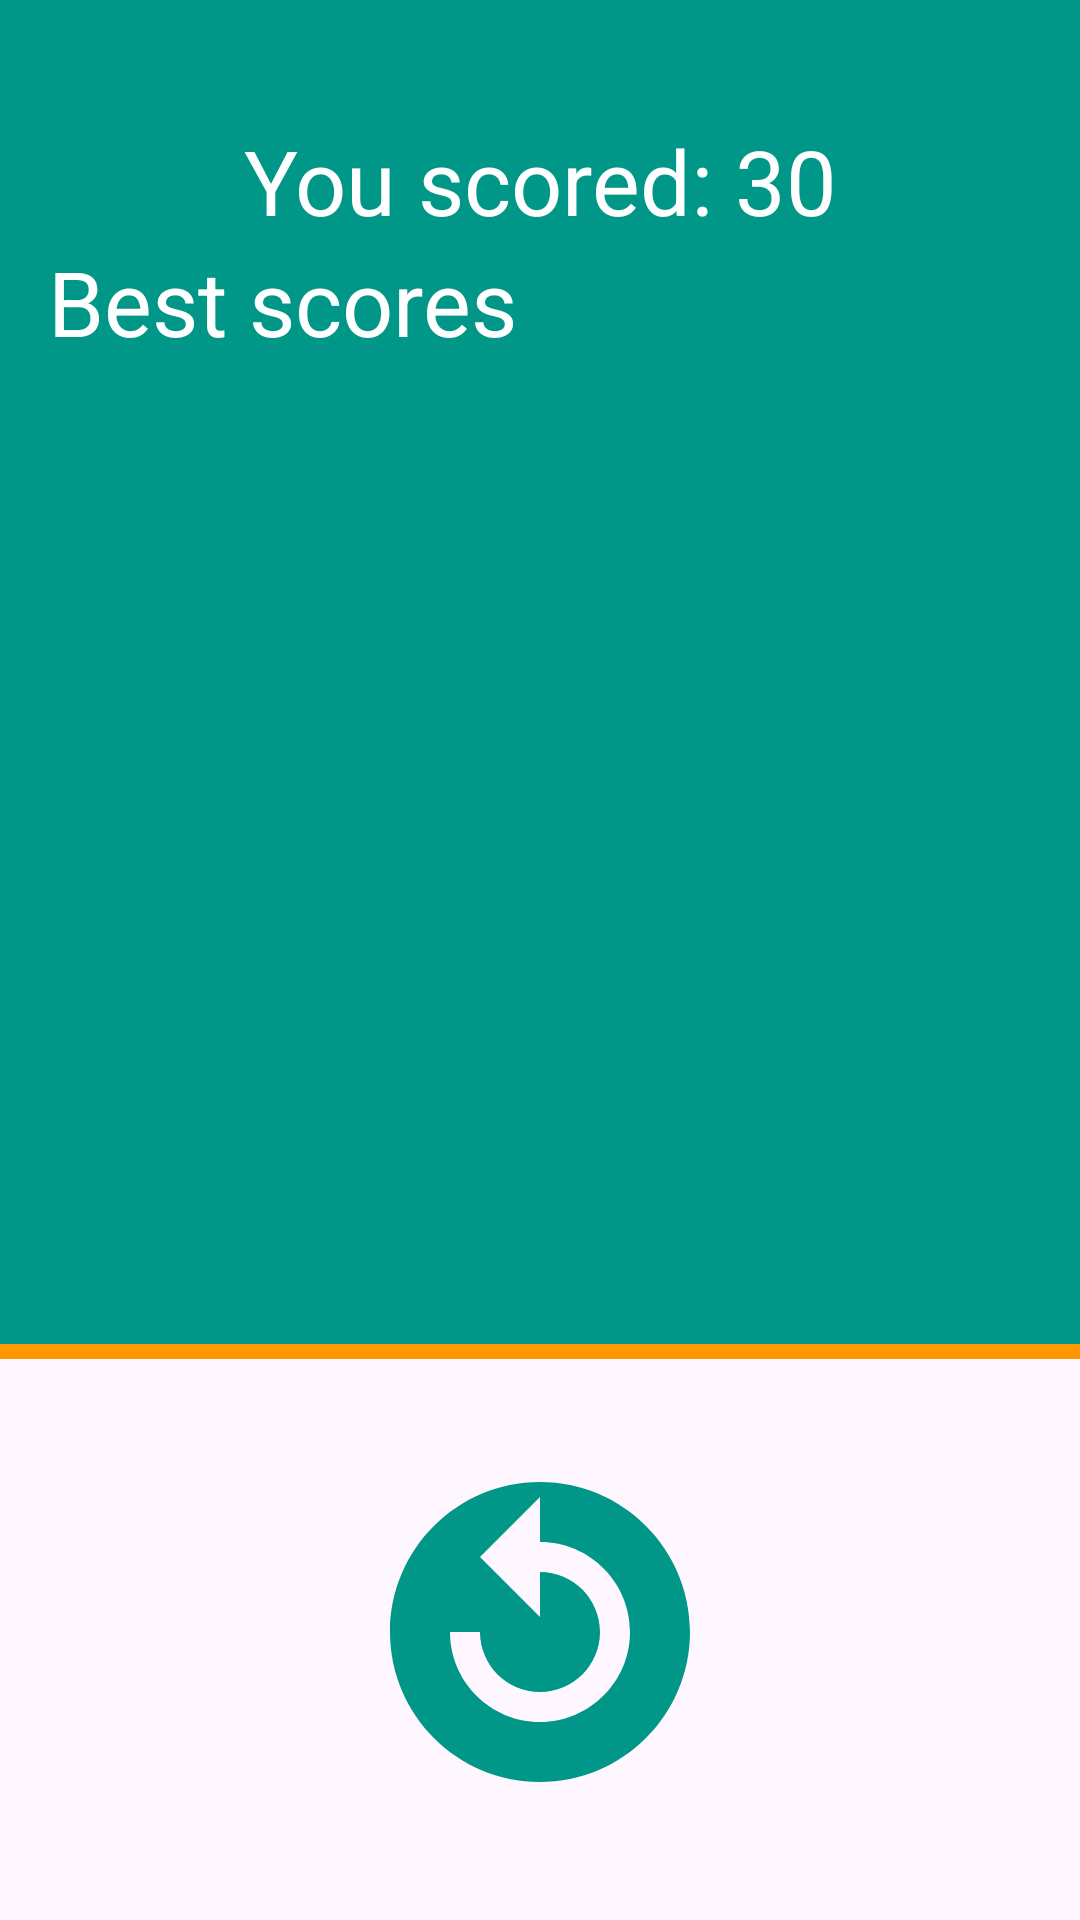

Named icons in this screenshot (1080px×1920px) and their centers, [x,y]:
Start: [540,1632]
